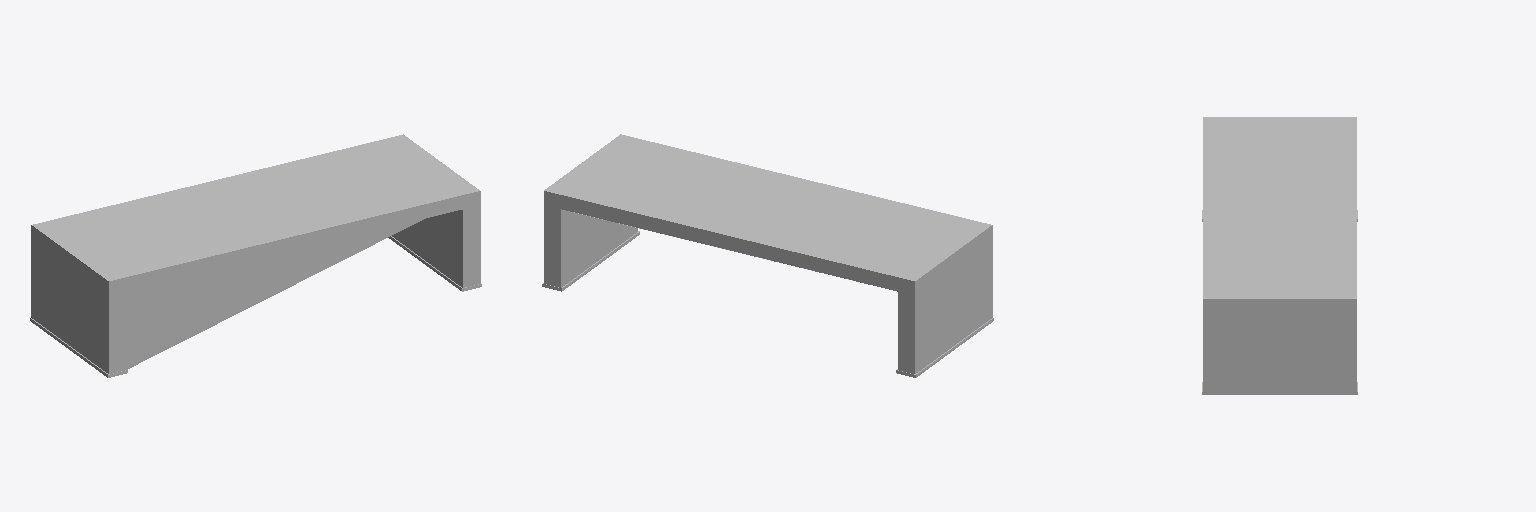
File: RadiationTable.obj
The picture shows the model from 3 angles: view 1: azimuth 30°, elevation 25°; view 2: azimuth 150°, elevation 25°; view 3: azimuth 270°, elevation 25°; orthographic projection.
Visible parts, largest first — view 1: Mesh1 Model; view 2: Mesh1 Model; view 3: Mesh1 Model.
Part boxes in pixels (x1,y1,x2,y2): Mesh1 Model: (30, 134, 481, 377); Mesh1 Model: (542, 134, 993, 377); Mesh1 Model: (1202, 117, 1357, 394).
Bounding box in the file's own units: 214 × 52.54 × 77.19.